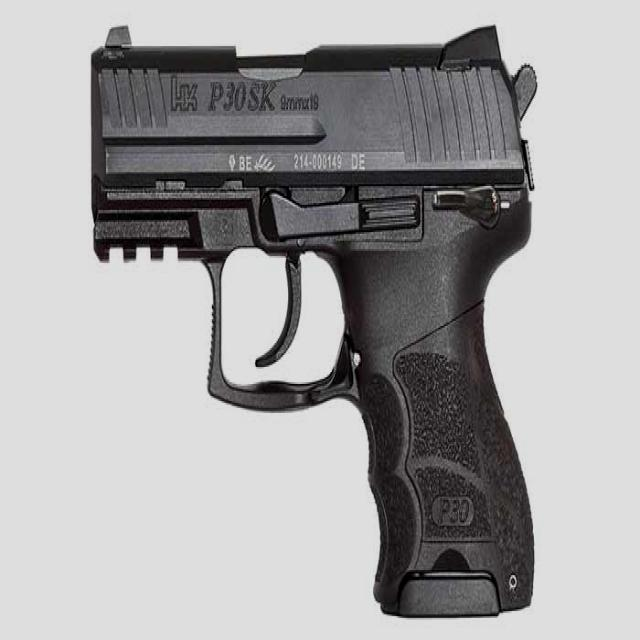pistol: (81, 17, 542, 616)
